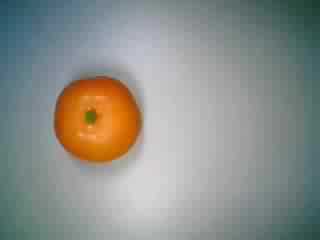orange: (49, 63, 144, 165)
